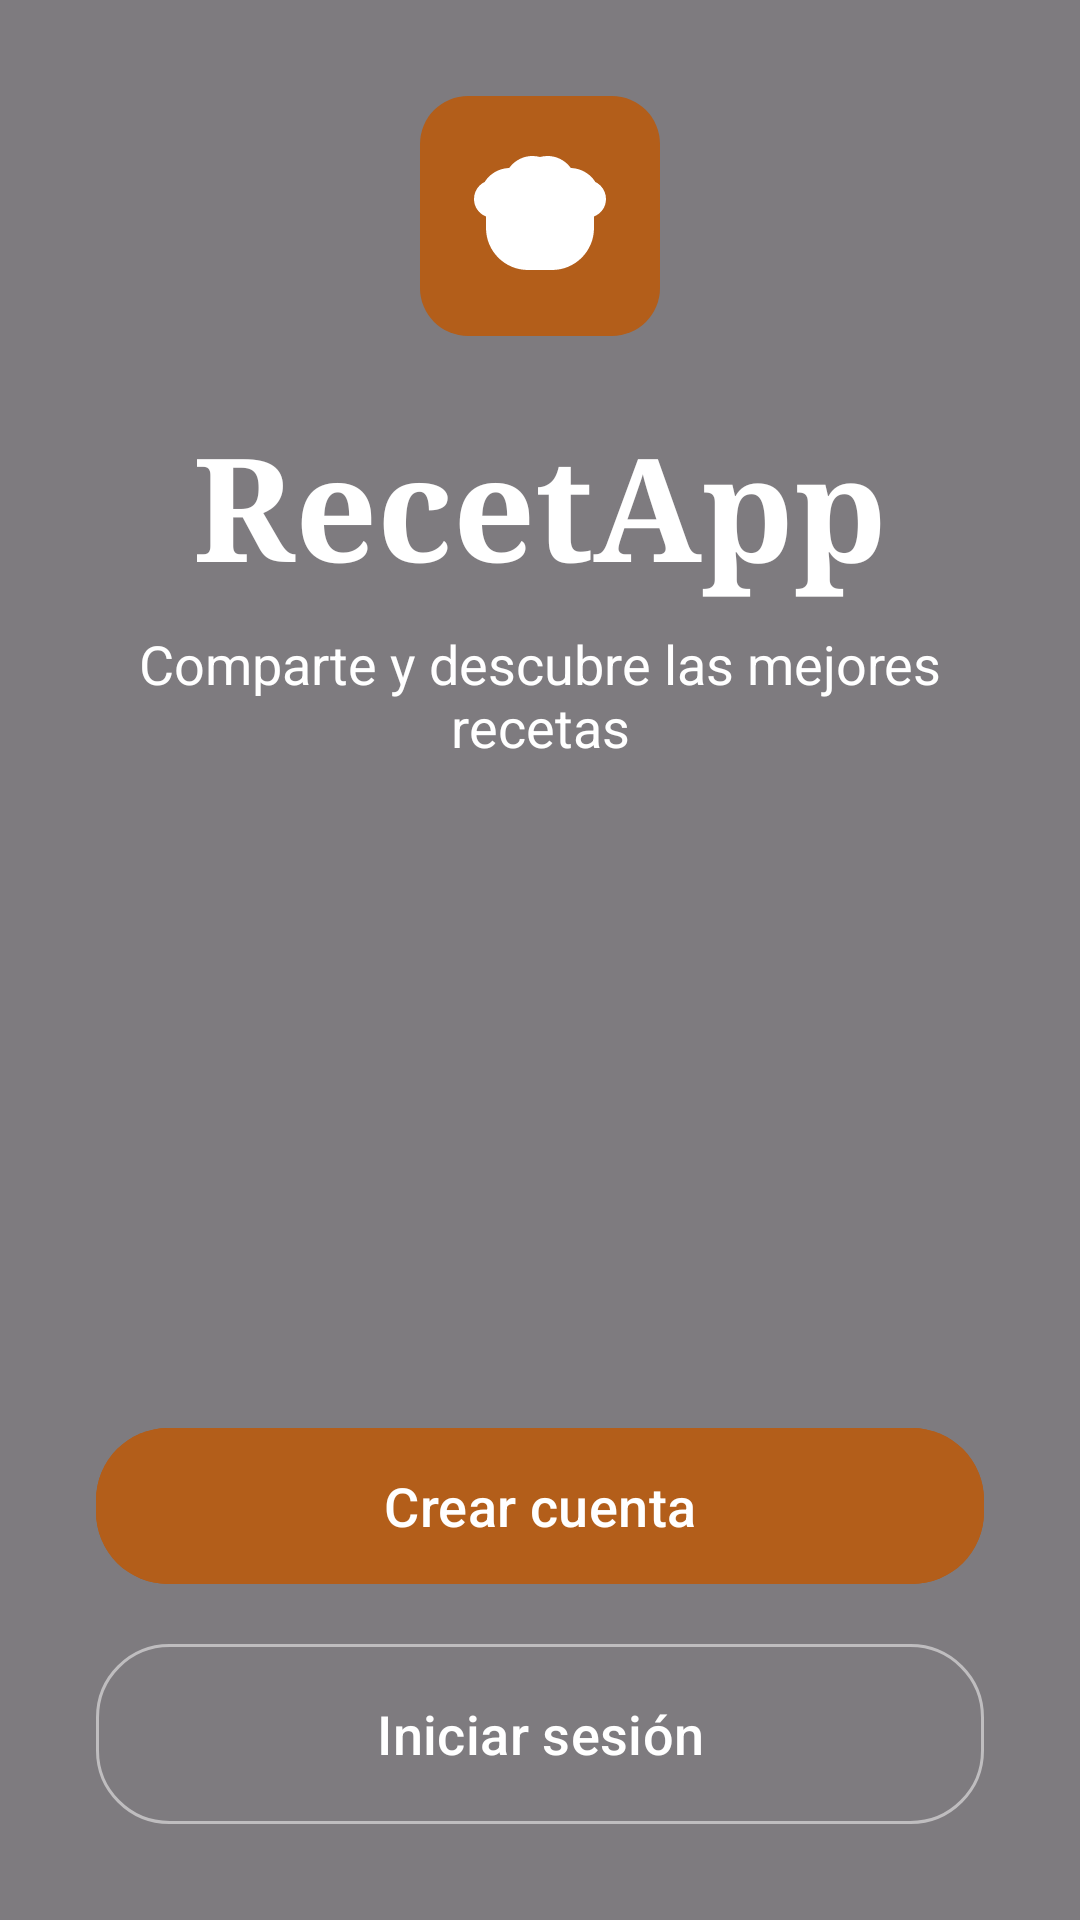

Named icons in this screenshot (1080 x 1920) and their centers, (x,y):
chef hat: (540,213)
